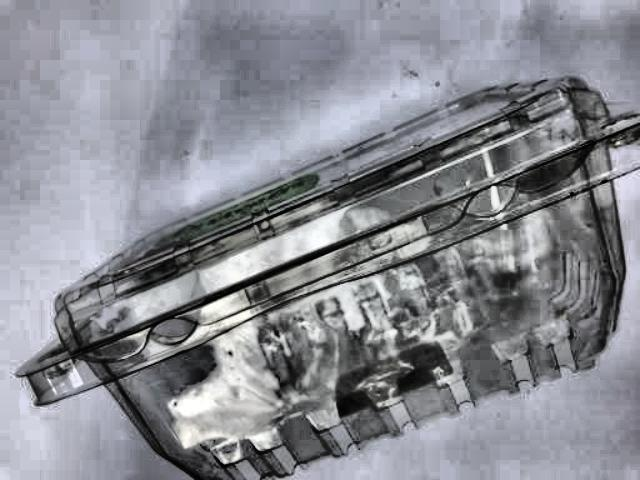Plastic: (24, 70, 640, 480)
